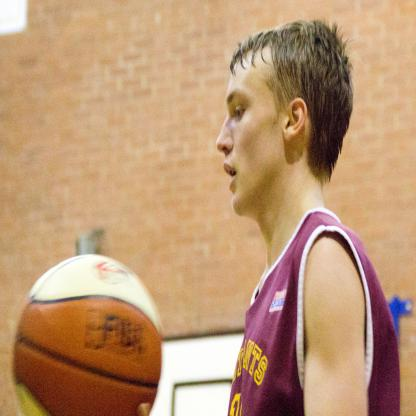Ball: (11, 254, 162, 416)
